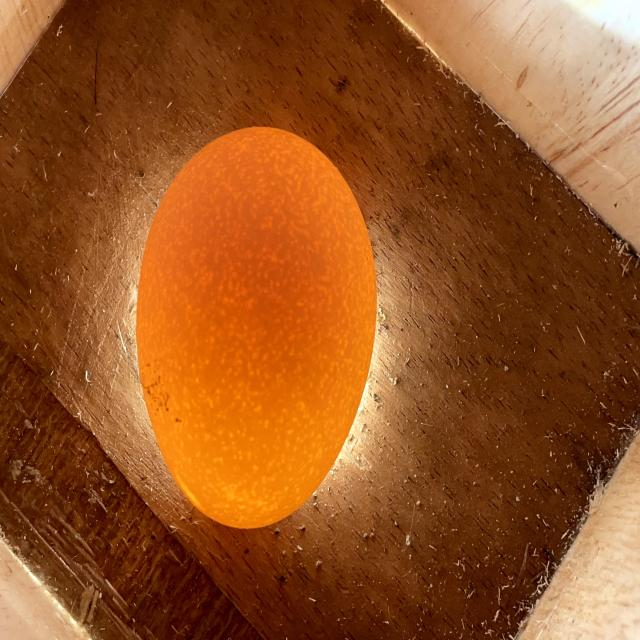infertile: (136, 127, 376, 528)
